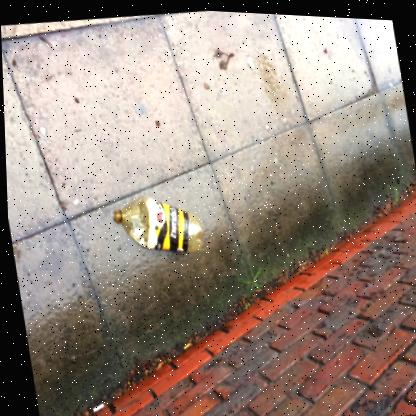Plastic: (112, 192, 201, 249)
Waste: (89, 401, 100, 410), (180, 339, 187, 347)
